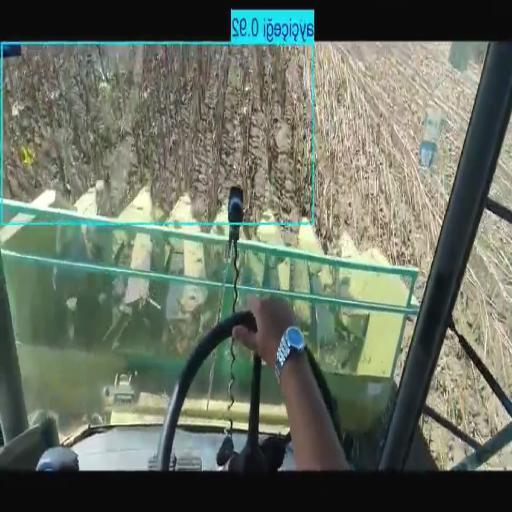ayc: (5, 45, 311, 221)
